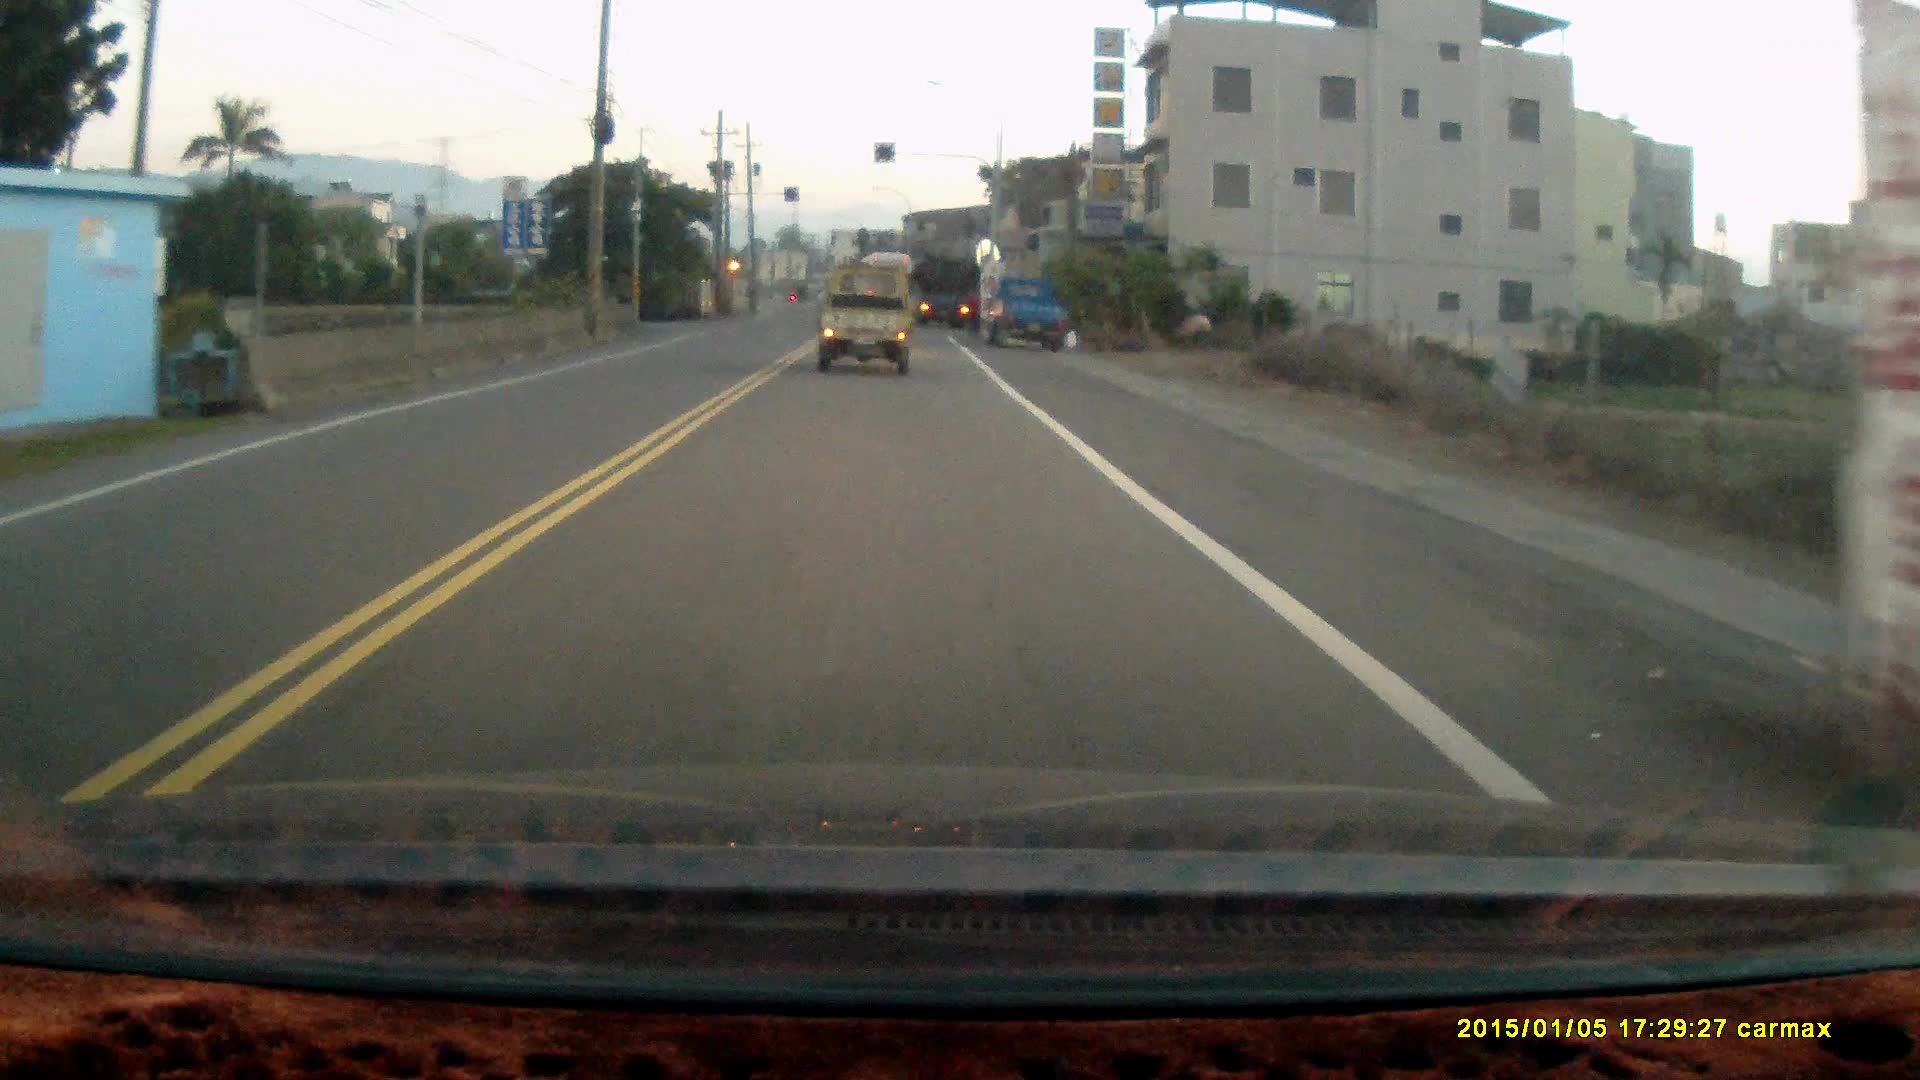vehicle: (814, 269, 916, 382), (981, 274, 1081, 348), (914, 256, 984, 327)
